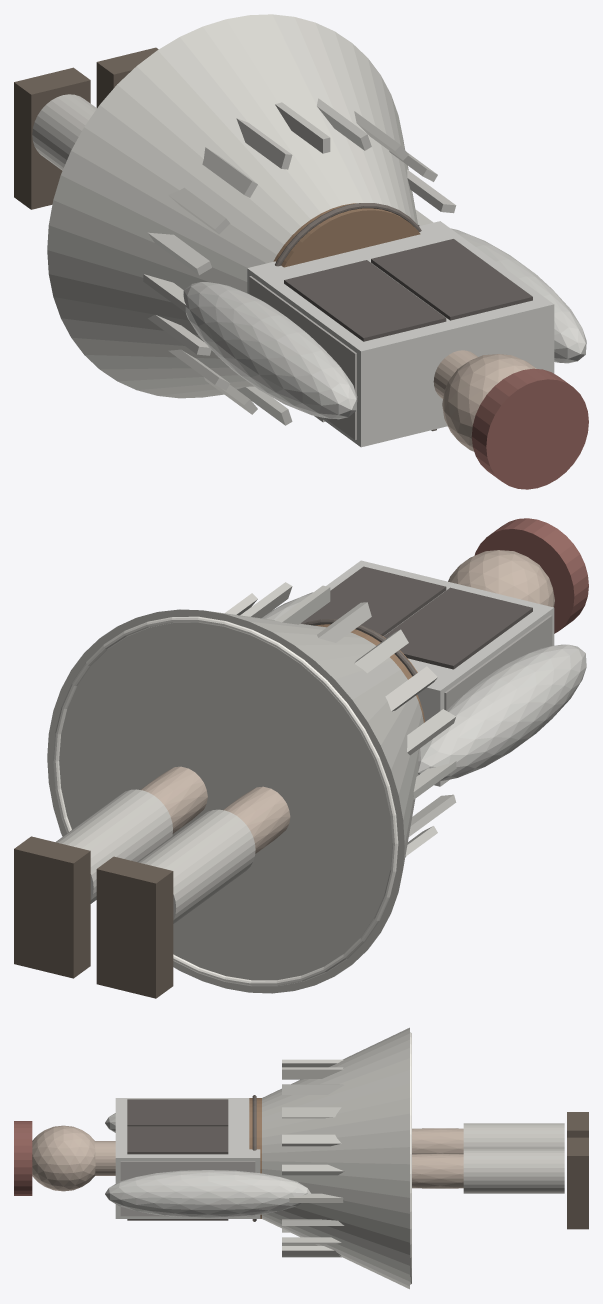
The model's file is MASTER_182_STAGE3_DETAIL.glb.
3 renders of one model, top to bottom at view 1: azimuth 30°, elevation 25°; view 2: azimuth 150°, elevation 25°; view 3: azimuth 270°, elevation 25°, orthographic. The views are drawn at different scales.
Visible parts, largest first — view 1: slot_lower_main__fustanellë, slot_upper_inner__këmishë, slot_upper_inner_sleeve_L, slot_headwear__kapelë, slot_upper_outer__jelek_fermen_L, slot_upper_outer__jelek_fermen_R, slot_footwear__L, slot_waist__brez, mannequin_head, slot_upper_inner_sleeve_R, slot_legwear__L, mannequin_torso (+15 smaller); view 2: slot_lower_main__fustanellë, slot_upper_inner_sleeve_L, slot_footwear__L, slot_footwear__R, slot_legwear__L, slot_upper_outer__jelek_fermen_L, locked_fustanella_hem, slot_legwear__R, slot_headwear__kapelë, slot_upper_outer__jelek_fermen_R, slot_upper_inner__këmishë, mannequin_head (+11 smaller); view 3: slot_lower_main__fustanellë, slot_upper_inner_sleeve_R, slot_legwear__R, slot_upper_inner__këmishë, mannequin_head, slot_upper_outer__jelek_fermen_R, slot_upper_outer__jelek_fermen_L, slot_legwear__L, slot_footwear__R, mannequin_torso, mannequin_leg_R, slot_headwear__kapelë (+15 smaller).
Boxes of the visible parts, <box> form: slot_lower_main__fustanellë: <box>47,14,417,398</box>; slot_upper_inner__këmishë: <box>247,221,554,447</box>; slot_upper_inner_sleeve_L: <box>183,282,357,419</box>; slot_headwear__kapelë: <box>471,368,588,489</box>; slot_upper_outer__jelek_fermen_L: <box>284,260,446,341</box>; slot_upper_outer__jelek_fermen_R: <box>371,239,532,320</box>; slot_footwear__L: <box>14,67,90,209</box>; slot_waist__brez: <box>273,203,420,267</box>; mannequin_head: <box>442,354,536,451</box>; slot_upper_inner_sleeve_R: <box>451,228,586,363</box>; slot_legwear__L: <box>32,94,96,170</box>; mannequin_torso: <box>249,276,356,439</box>; slot_lower_main__fustanellë: <box>47,609,423,993</box>; slot_upper_inner_sleeve_L: <box>418,644,586,781</box>; slot_footwear__L: <box>96,856,173,998</box>; slot_footwear__R: <box>14,836,90,978</box>; slot_legwear__L: <box>138,809,255,923</box>; slot_upper_outer__jelek_fermen_L: <box>383,587,532,669</box>; locked_fustanella_hem: <box>53,616,398,986</box>; slot_legwear__R: <box>55,789,172,903</box>; slot_headwear__kapelë: <box>474,518,588,633</box>; slot_upper_outer__jelek_fermen_R: <box>300,566,446,636</box>; slot_upper_inner__këmishë: <box>326,560,554,786</box>; mannequin_head: <box>448,550,554,607</box>; slot_lower_main__fustanellë: <box>262,1027,409,1289</box>; slot_upper_inner_sleeve_R: <box>105,1170,310,1217</box>; slot_legwear__R: <box>463,1148,564,1193</box>; slot_upper_inner__këmishë: <box>115,1098,260,1218</box>; mannequin_head: <box>32,1125,95,1191</box>; slot_upper_outer__jelek_fermen_R: <box>127,1126,228,1220</box>; slot_upper_outer__jelek_fermen_L: <box>127,1099,228,1126</box>; slot_legwear__L: <box>463,1123,564,1148</box>; slot_footwear__R: <box>567,1137,588,1229</box>; mannequin_torso: <box>120,1161,255,1216</box>; mannequin_leg_R: <box>412,1153,463,1188</box>; slot_headwear__kapelë: <box>14,1121,32,1195</box>.
Bounding box in the file's own units: 0.78 × 0.78 × 1.71.
